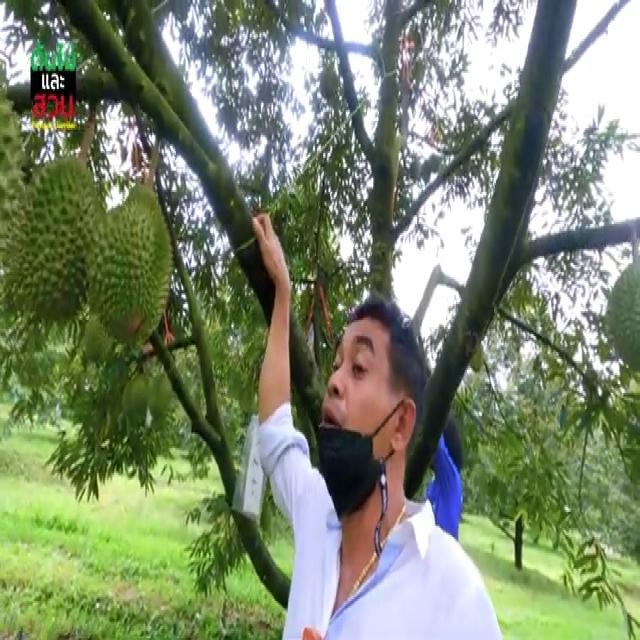durian: (13, 153, 110, 331), (84, 182, 174, 352)
